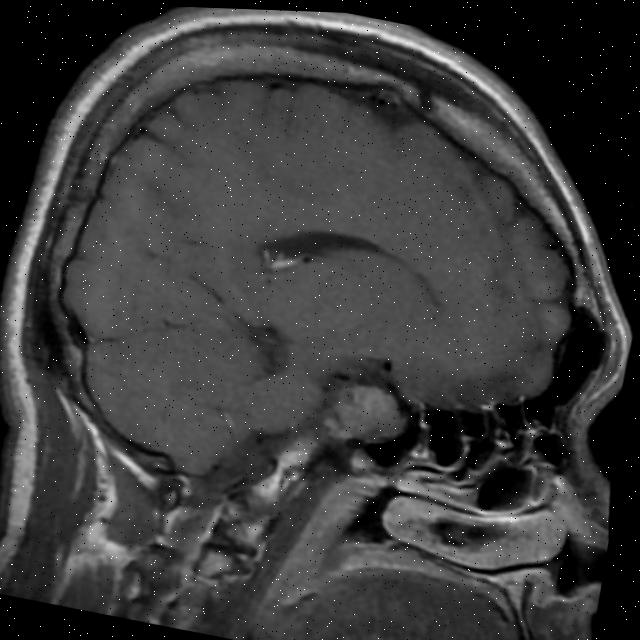Pituitary: (333, 380, 411, 451)
